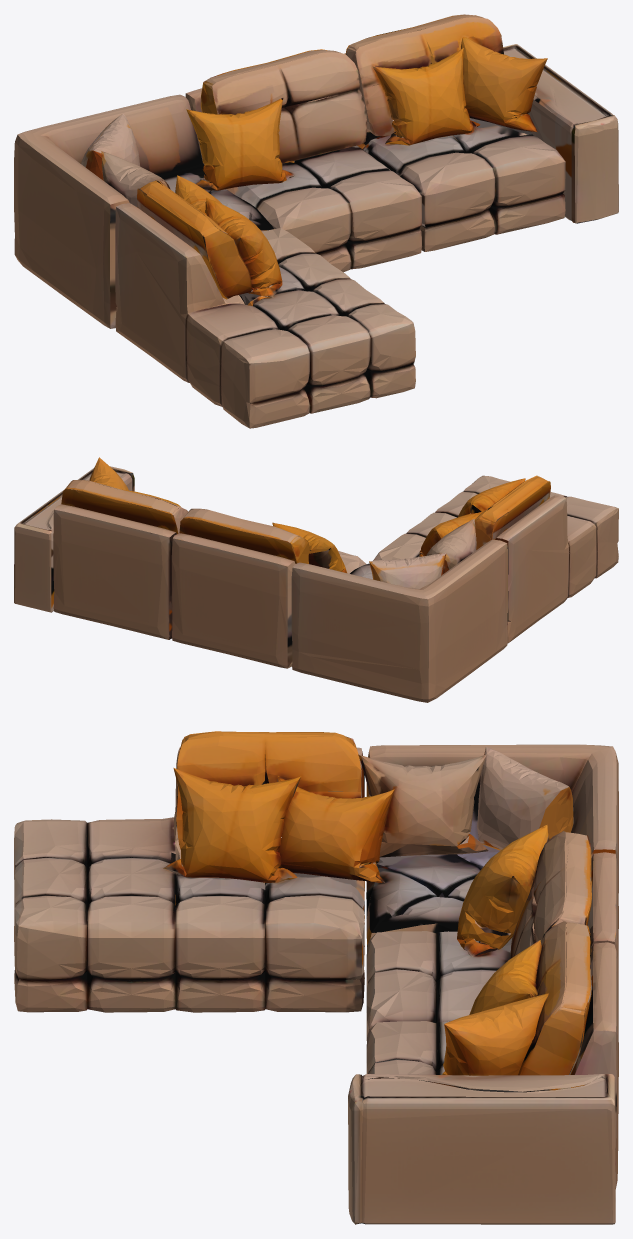
Rendered from edited_mesh.glb.
3 views of the same model, one above another, from view 1: azimuth 30°, elevation 25°; view 2: azimuth 150°, elevation 25°; view 3: azimuth 270°, elevation 25° (orthographic). The views are drawn at different scales.
Visible parts, largest first — view 1: solid_001_wire; view 2: solid_001_wire; view 3: solid_001_wire.
Boxes of the visible parts, left/top/right/bottom form: solid_001_wire: left=14, top=14, right=618, bottom=428; solid_001_wire: left=14, top=457, right=618, bottom=702; solid_001_wire: left=14, top=731, right=618, bottom=1224.
Size of the model in its own units: 2 by 0.5776 by 1.61.
Materials: 1 (1 with a texture image).
